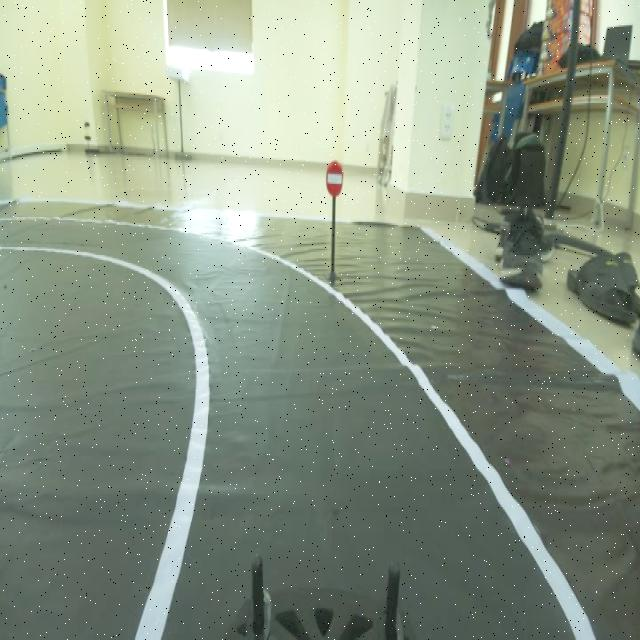no_entry: (324, 154, 345, 201)
